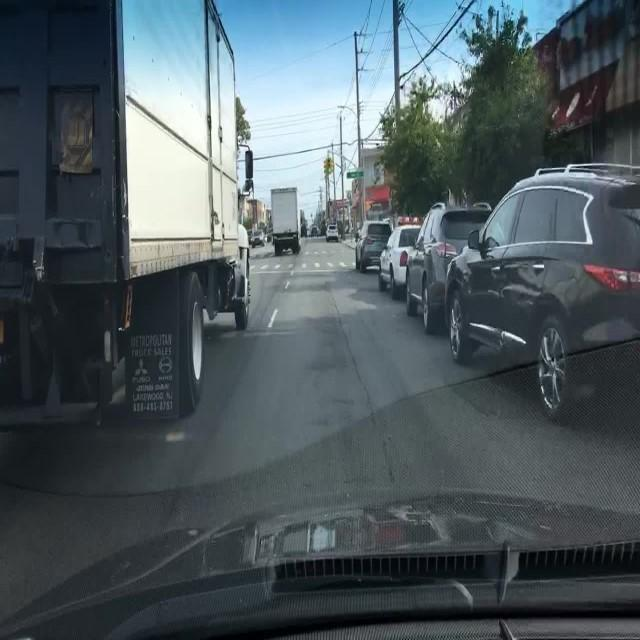normal: (2, 0, 255, 457), (448, 164, 640, 428), (400, 203, 493, 335), (375, 221, 420, 293), (267, 187, 302, 255), (353, 219, 392, 271), (325, 224, 338, 242), (250, 233, 264, 247)
